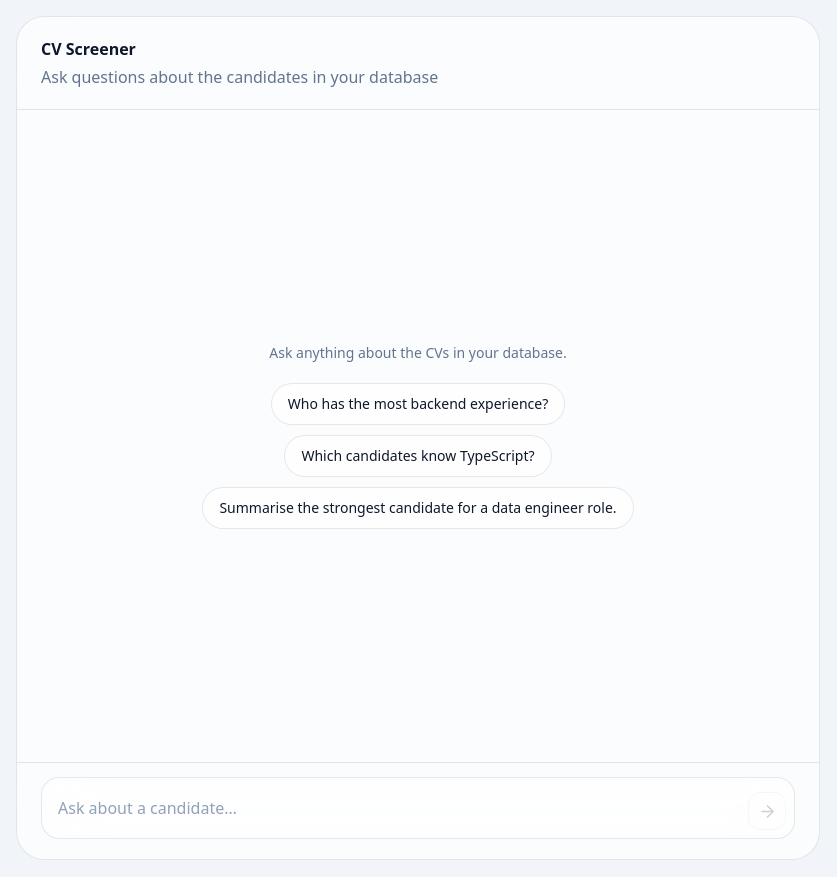
ChatPage › shows an error bubble when the request fails
Type "Trigger a failure" into the text box with placeholder "Ask about a candidate…".
click(394, 808); type("Trigger a failure")  # box x1=50 y1=786 x2=738 y2=830
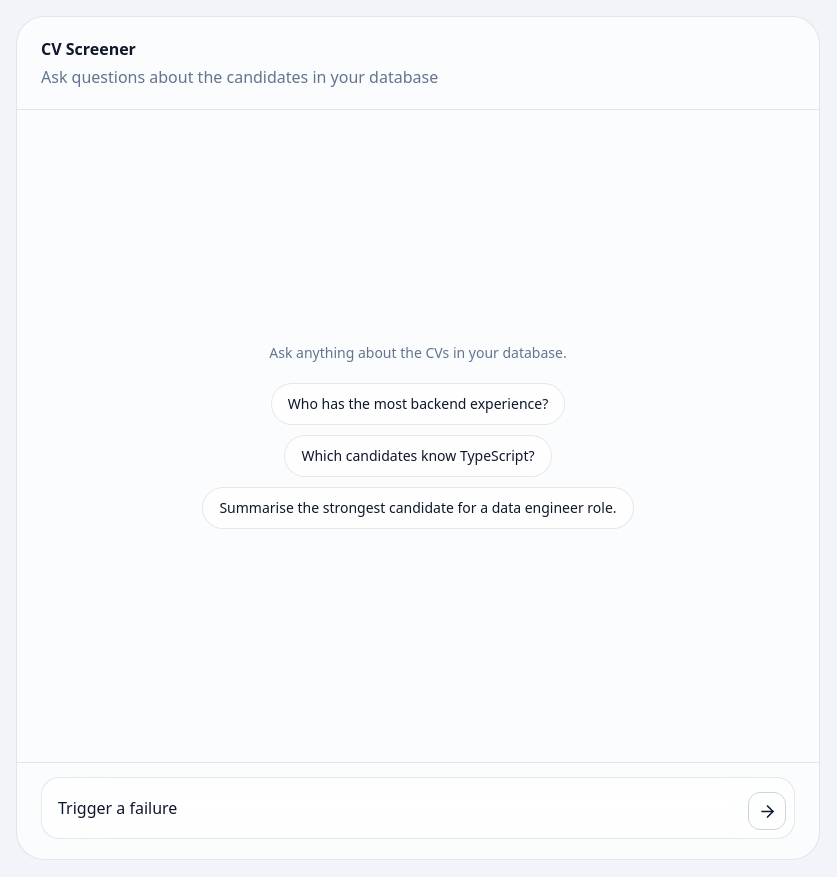
Click the button named "Send question".
click(767, 811)  # box x1=748 y1=792 x2=786 y2=830
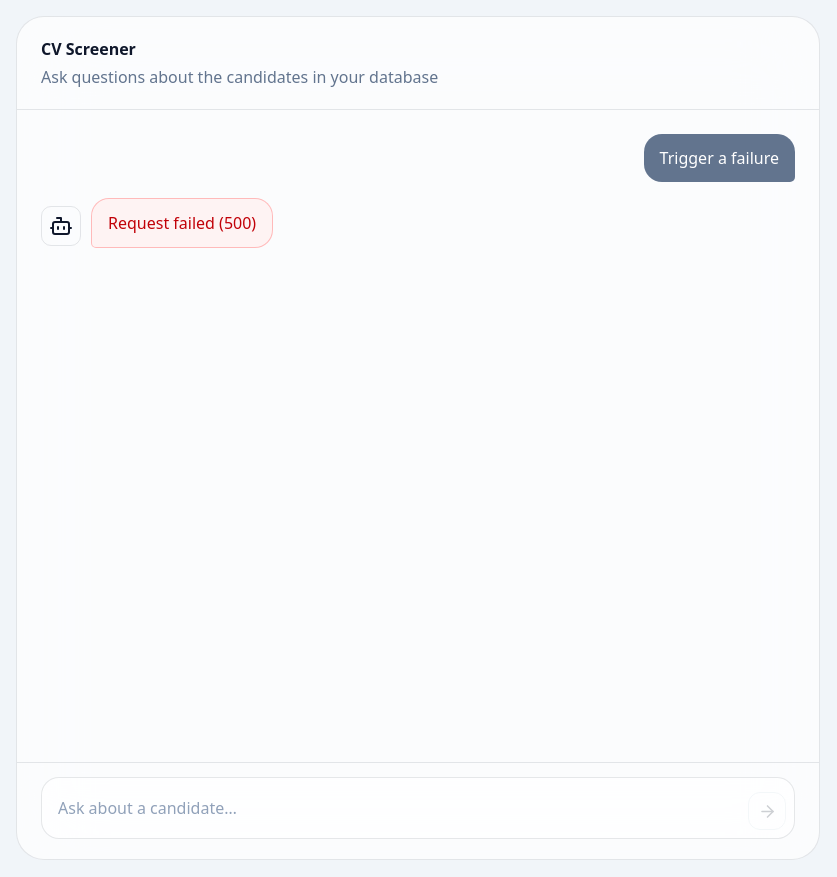
Check: the text "Request failed (500)" is shown, box x1=108 y1=211 x2=256 y2=235
